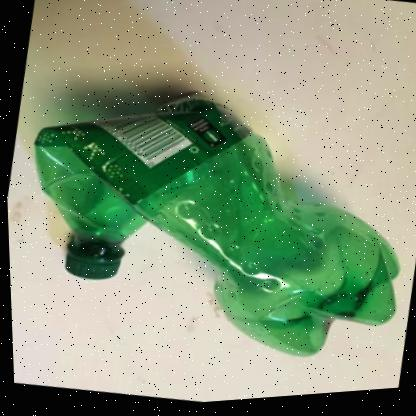Plastic: (32, 95, 395, 360)
